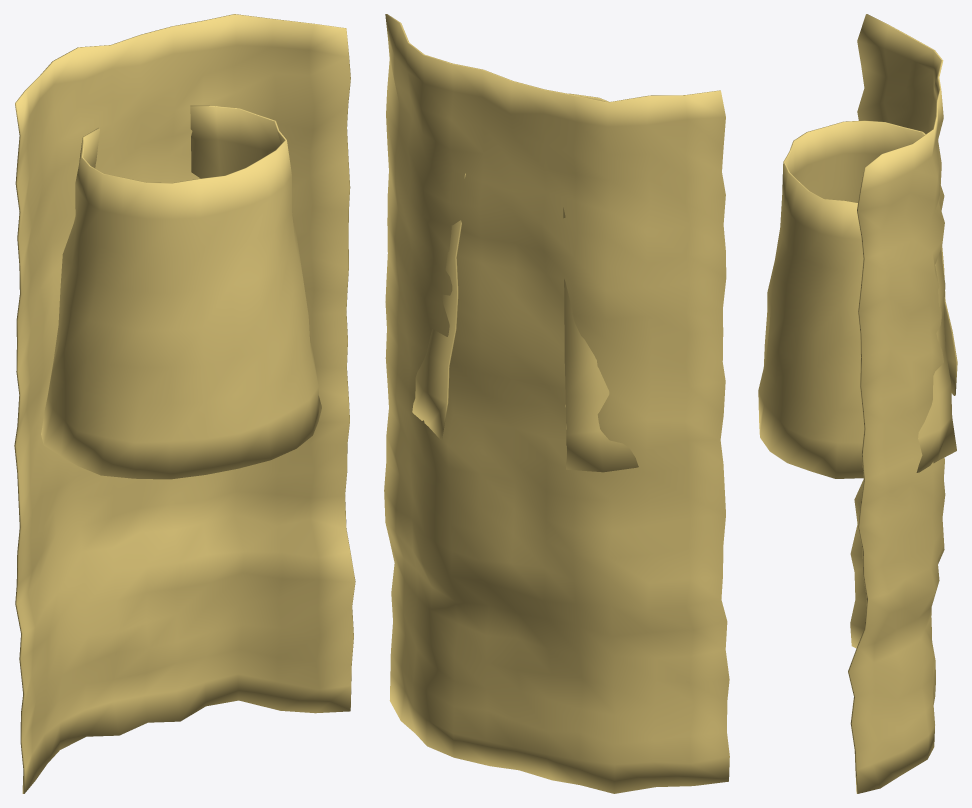
File: TreatmentProps.fbx
3 renders of one model, left to right at view 1: azimuth 30°, elevation 25°; view 2: azimuth 150°, elevation 25°; view 3: azimuth 270°, elevation 25°, orthographic. The views are drawn at different scales.
Parts seen in each view (by area): view 1: Blanket_Lying_Sheet, Blanket_Shawl_Wrap; view 2: Blanket_Lying_Sheet, Blanket_Shawl_Wrap; view 3: Blanket_Lying_Sheet, Blanket_Shawl_Wrap.
Boxes of the visible parts, bbox=[...] form: Blanket_Lying_Sheet: bbox=[14, 14, 355, 793]; Blanket_Shawl_Wrap: bbox=[41, 105, 321, 479]; Blanket_Lying_Sheet: bbox=[384, 14, 729, 793]; Blanket_Shawl_Wrap: bbox=[412, 93, 638, 472]; Blanket_Lying_Sheet: bbox=[848, 14, 945, 793]; Blanket_Shawl_Wrap: bbox=[758, 120, 957, 478].
Bounding box in the file's own units: 0.7598 × 1.51 × 0.4295.
